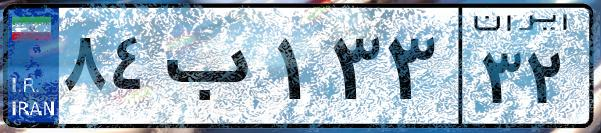1: (270, 28, 330, 110)
2: (525, 38, 570, 115)
3: (385, 28, 445, 110), (330, 28, 385, 110), (475, 38, 525, 113)
4: (110, 28, 158, 98)
8: (57, 26, 110, 100)
ب: (158, 20, 270, 120)
